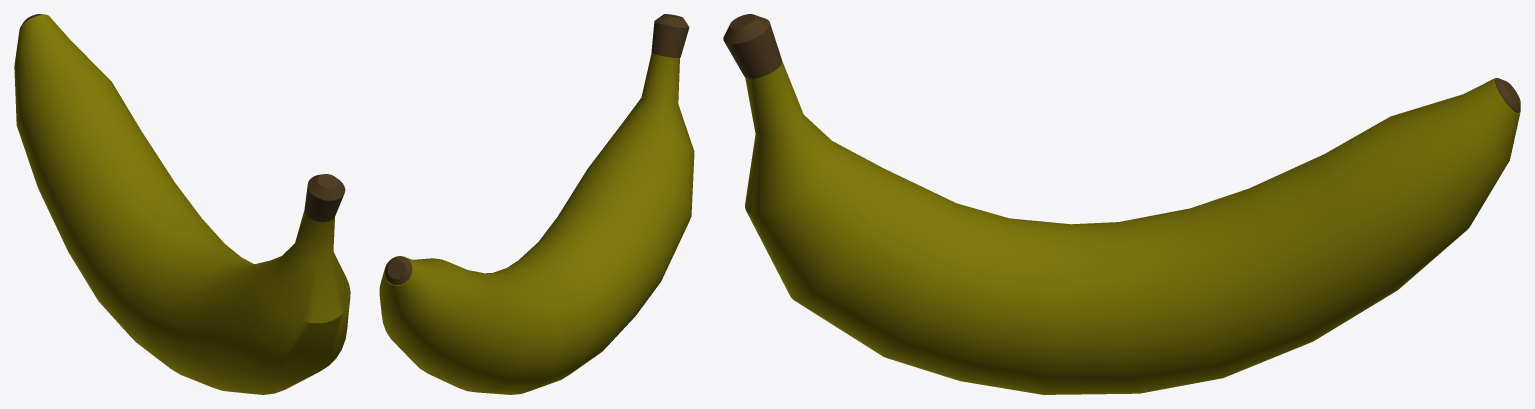
The model's file is Banana.fbx.
The picture shows the model from 3 angles, left to right: view 1: azimuth 30°, elevation 25°; view 2: azimuth 150°, elevation 25°; view 3: azimuth 270°, elevation 25°; orthographic projection. The views are drawn at different scales.
Visible parts, largest first — view 1: Cylinder, Cylinder.002; view 2: Cylinder, Cylinder.002, Cylinder.001; view 3: Cylinder, Cylinder.002.
Part boxes in pixels (box(x1,y1,x2,y2)): Cylinder: box(14, 14, 350, 394); Cylinder.002: box(304, 174, 345, 222); Cylinder: box(379, 53, 694, 394); Cylinder.002: box(651, 14, 689, 57); Cylinder.001: box(384, 256, 411, 285); Cylinder: box(745, 61, 1520, 394); Cylinder.002: box(723, 14, 782, 78).
Size of the model in its own units: 53.74 by 127 by 248.
